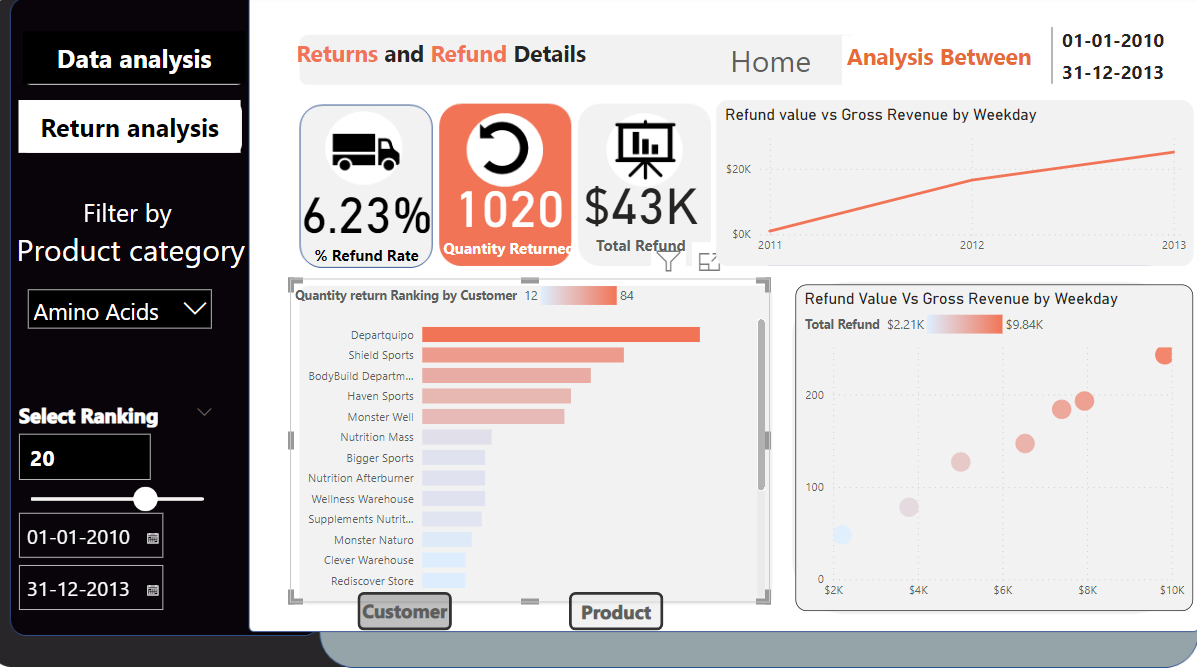

This screenshot's page, from the dashboard's own definition file:
{"tool":"powerbi","page":{"name":"Quantity Return analysis","canvas":[1280,720],"ordinal":6},"visuals":[{"type":"actionButton","title":"inactive product","box":[613.1,631.7,99.8,40.7],"z":0,"group":"g1"},{"type":"clusteredBarChart","fields":{"Category":["Lookup_Customers.Customer"],"Y":["All Measures.Ranking"]},"box":[317.9,300.4,508.6,343.3],"z":1000},{"type":"actionButton","title":"Active customer","box":[389.5,632.7,100.3,40.4],"z":1000,"group":"g2"},{"type":"slicer","fields":{"Values":["SelectRanking .SelectRanking "]},"box":[17.5,424.4,230.5,152.6],"z":2000},{"type":"group","id":"g1","title":"Product","box":[612.8,630.8,100.4,42.5],"z":3000},{"type":"group","id":"g2","title":"Customer","box":[389.4,632.6,101.7,41.3],"z":4000},{"type":"card","fields":{"Values":["All Measures.Quantity Returned"]},"box":[465.5,173.8,168.1,114],"z":5000},{"type":"card","fields":{"Values":["All Measures.Total Refund"]},"box":[596.6,174.4,187.2,104.6],"z":6000},{"type":"card","fields":{"Values":["All Measures.% Refund Rate"]},"box":[312.9,185.4,171.9,102.4],"z":7000},{"type":"lineChart","title":"Refund value vs Gross Revenue by Weekday","fields":{"Category":["Calendar.Year","Calendar.Month","Calendar.Weekday","Calendar.Qtr"],"Y":["All Measures.Total Refund"]},"box":[768.8,112,506.1,175.8],"z":8000},{"type":"scatterChart","title":"Refund Value Vs Gross Revenue by Weekday","fields":{"X":["All Measures.Total Refund"],"Category":["Calendar.Weekday"],"Y":["All Measures.Quantity Returned"]},"box":[853.8,307.1,421.1,345.8],"z":9000},{"type":"textbox","box":[319.4,40.4,370.8,55.1],"z":10000},{"type":"actionButton","title":" active Return Analysis","box":[34.8,38.6,235.7,56],"z":11000},{"type":"actionButton","title":" active Return Analysis","box":[30.9,112,235.7,56],"z":12000},{"type":"actionButton","box":[330.6,119.2,135.1,168.5],"z":13000},{"type":"actionButton","box":[486.5,118.9,129.7,168.6],"z":14000},{"type":"actionButton","box":[623,119.2,135.1,168.5],"z":15000},{"type":"slicer","fields":{"Values":["Calendar.Date"]},"box":[17.4,538.9,210.5,133.3],"z":16000},{"type":"slicer","fields":{"Values":["Lookup_productsCategory.CategoryName"]},"box":[30.9,301.3,214.4,75.3],"z":17000},{"type":"textbox","box":[15.5,206.7,266.6,133.3],"z":18000},{"type":"multiRowCard","fields":{"Values":["All Measures.First date","All Measures.Last date"]},"box":[1119.7,29.4,154.2,75.3],"z":19000},{"type":"textbox","box":[903.1,42.2,214.8,53.2],"z":20000},{"type":"actionButton","box":[756.3,40.4,141.3,56.9],"z":21000}]}

Visuals, with their boxes on the page's 1280x720 design canvas (x1, y1, x2, y2). These are canvas units, not pixel positions in the 1197x669 screenshot, which may show the page scaled, cropped or inside an application window:
"inactive product" actionButton: [613, 632, 713, 672]
clusteredBarChart - Lookup_Customers.Customer x All Measures.Ranking: [318, 300, 826, 644]
"Active customer" actionButton: [390, 633, 490, 673]
slicer - SelectRanking .SelectRanking : [18, 424, 248, 577]
"Product" group: [613, 631, 713, 673]
"Customer" group: [389, 633, 491, 674]
card - All Measures.Quantity Returned: [466, 174, 634, 288]
card - All Measures.Total Refund: [597, 174, 784, 279]
card - All Measures.% Refund Rate: [313, 185, 485, 288]
"Refund value vs Gross Revenue by Weekday" lineChart: [769, 112, 1275, 288]
"Refund Value Vs Gross Revenue by Weekday" scatterChart: [854, 307, 1275, 653]
textbox: [319, 40, 690, 96]
" active Return Analysis" actionButton: [35, 39, 270, 95]
" active Return Analysis" actionButton: [31, 112, 267, 168]
actionButton: [331, 119, 466, 288]
actionButton: [486, 119, 616, 288]
actionButton: [623, 119, 758, 288]
slicer - Calendar.Date: [17, 539, 228, 672]
slicer - Lookup_productsCategory.CategoryName: [31, 301, 245, 377]
textbox: [16, 207, 282, 340]
multiRowCard - All Measures.First date x All Measures.Last date: [1120, 29, 1274, 105]
textbox: [903, 42, 1118, 95]
actionButton: [756, 40, 898, 97]
